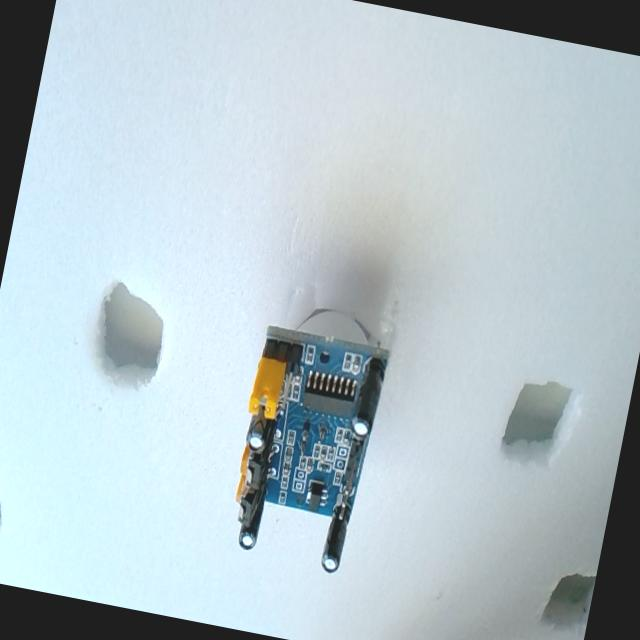Electrolytic capacitor: (349, 360, 386, 440), (318, 504, 352, 575), (236, 492, 266, 552), (244, 409, 272, 454)
IC: (300, 369, 360, 419)
pinheader: (338, 438, 364, 503)
